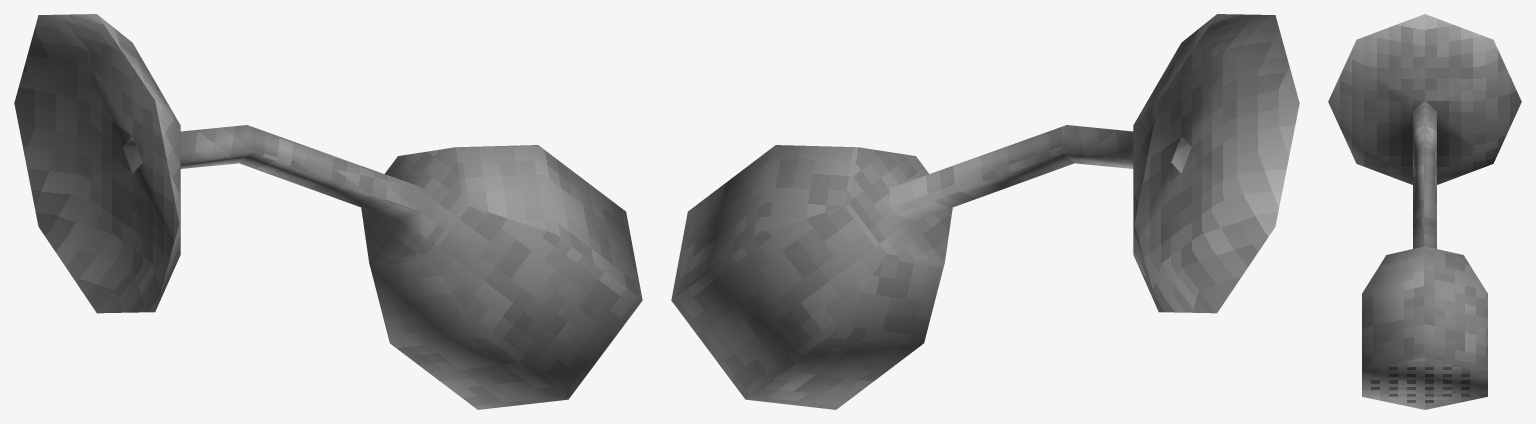
File: showerhead.obj
3 renders of one model, left to right at view 1: azimuth 30°, elevation 25°; view 2: azimuth 150°, elevation 25°; view 3: azimuth 270°, elevation 25°, orthographic. The views are drawn at different scales.
Visible parts, largest first — view 1: shower_head; view 2: shower_head; view 3: shower_head.
Part boxes in pixels (box(x1,y1,x2,y2)): shower_head: box(14, 14, 642, 409); shower_head: box(671, 14, 1299, 409); shower_head: box(1328, 14, 1521, 409).
Bounding box in the file's own units: 14.81 × 13.07 × 8.
